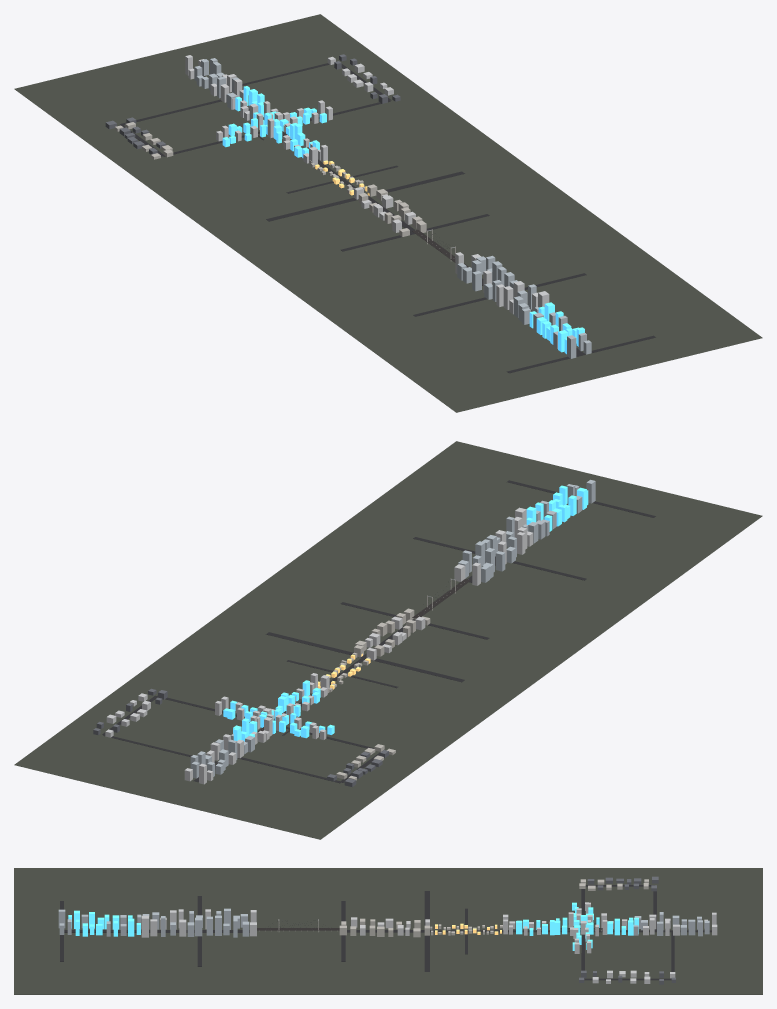
The model's file is ncr-world.glb.
The picture shows the model from 3 angles, top to bottom: view 1: azimuth 30°, elevation 25°; view 2: azimuth 150°, elevation 25°; view 3: azimuth 270°, elevation 25°; orthographic projection. The views are drawn at different scales.
Parts seen in each view (by area): view 1: Ground_Base; view 2: Ground_Base, Road_delhi-ring-road; view 3: Ground_Base, Road_delhi-ring-road, Road_noida-sector-link, Road_yamuna-bridge.
Boxes of the visible parts, left/top/right/bottom form: Ground_Base: left=14, top=14, right=762, bottom=412; Ground_Base: left=14, top=441, right=762, bottom=839; Road_delhi-ring-road: left=266, top=632, right=464, bottom=682; Ground_Base: left=14, top=868, right=762, bottom=994; Road_delhi-ring-road: left=424, top=891, right=429, bottom=971; Road_noida-sector-link: left=197, top=896, right=201, bottom=966; Road_yamuna-bridge: left=257, top=928, right=339, bottom=930.
Size of the model in its own units: 1000 by 70.37 by 2500.
